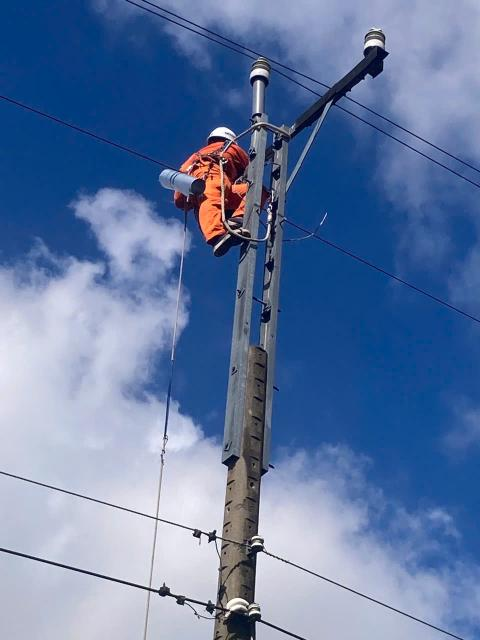harness: (189, 153, 239, 172)
helmet: (203, 125, 238, 147)
shoes: (201, 229, 252, 258)
